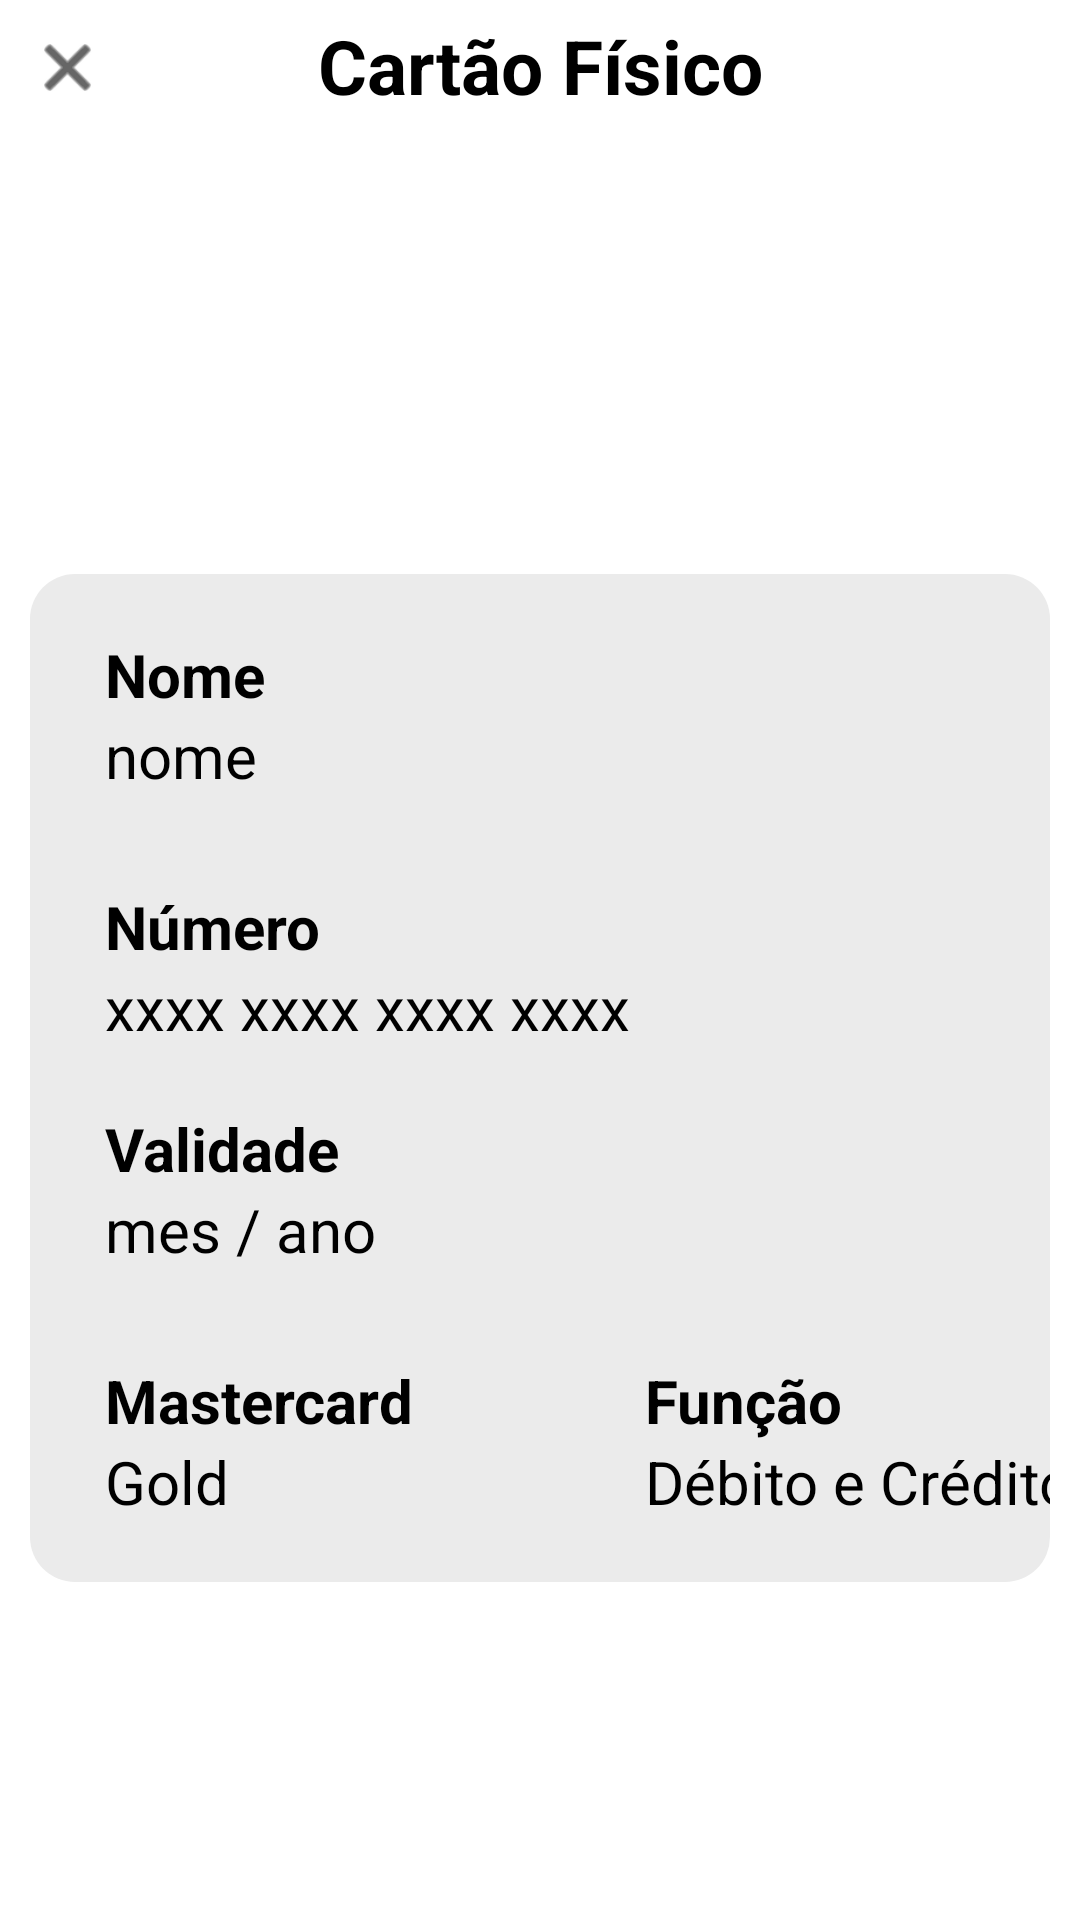

Icon click points for this 1080*1920 phone screenshot, format [x,y]:
close clear cancel: [67,67]
